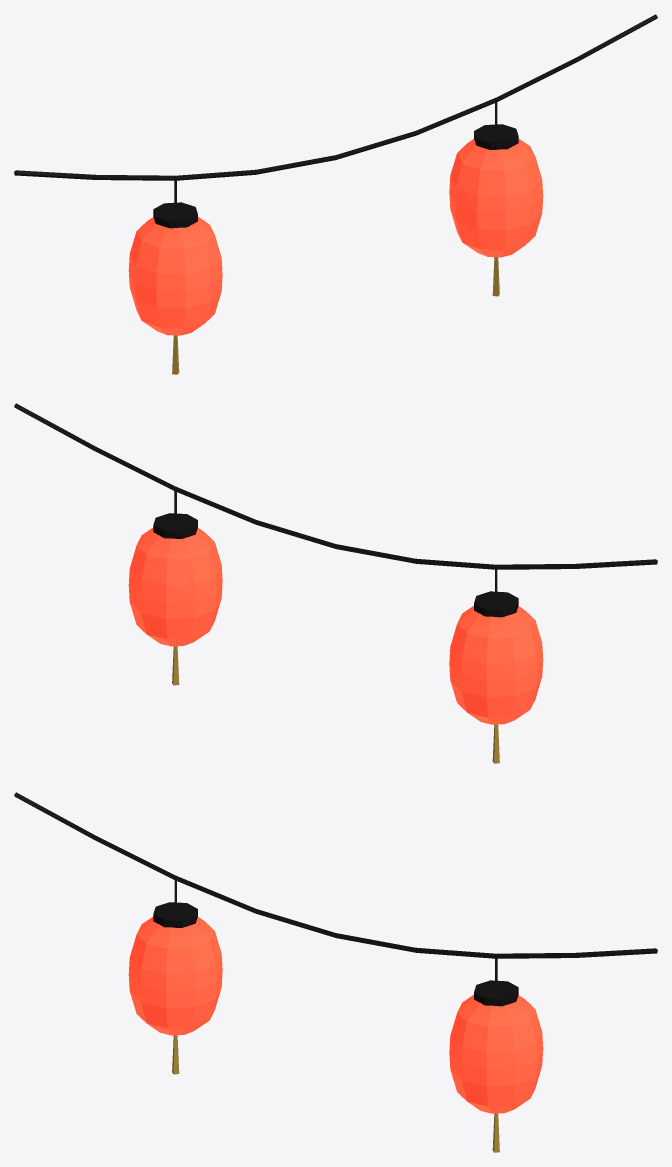
File: tp_lanterns-E3WgOVTd.glb
3 views of the same model, one above another, from view 1: azimuth 30°, elevation 25°; view 2: azimuth 150°, elevation 25°; view 3: azimuth 330°, elevation 25° (orthographic).
Bounding box in the file's own units: 3.21 × 1.15 × 0.3879.
